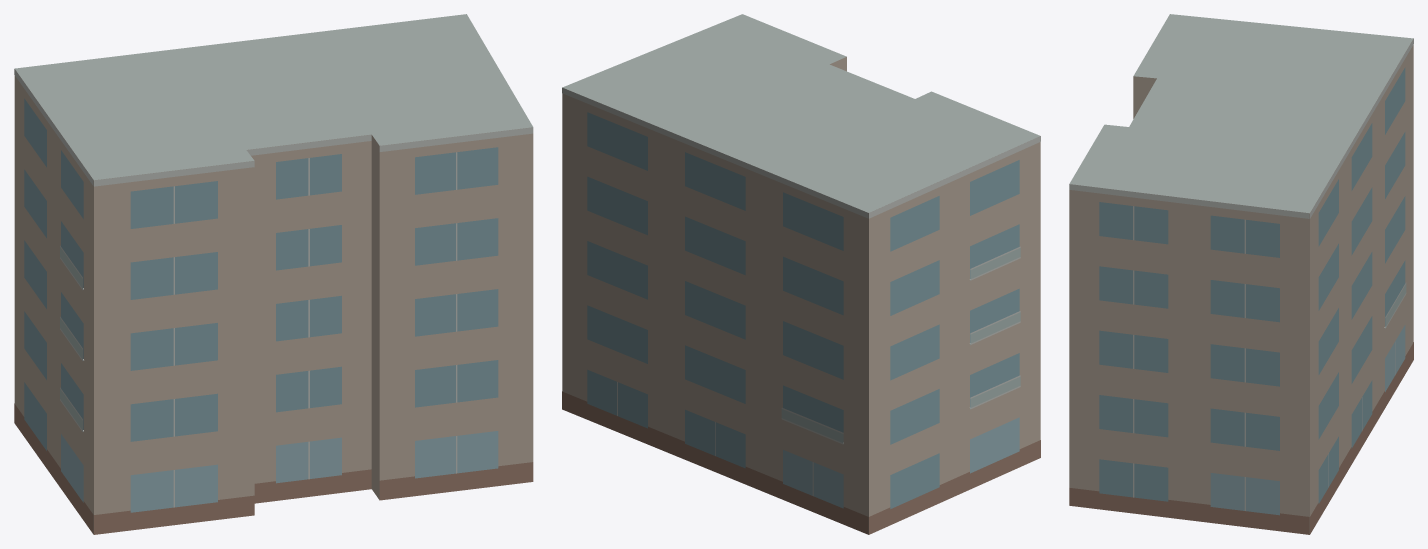
The model's file is survey-upis-32599783.glb.
3 renders of one model, left to right at view 1: azimuth 30°, elevation 25°; view 2: azimuth 150°, elevation 25°; view 3: azimuth 270°, elevation 25°, orthographic. The views are drawn at different scales.
Visible parts, largest first — view 1: survey-upis-32599783.tmp; view 2: survey-upis-32599783.tmp; view 3: survey-upis-32599783.tmp.
Boxes of the visible parts, <box> form: survey-upis-32599783.tmp: <box>14,14,533,534</box>; survey-upis-32599783.tmp: <box>562,14,1040,534</box>; survey-upis-32599783.tmp: <box>1069,14,1413,534</box>.
Bounding box in the file's own units: 18.08 × 13.6 × 13.21.
